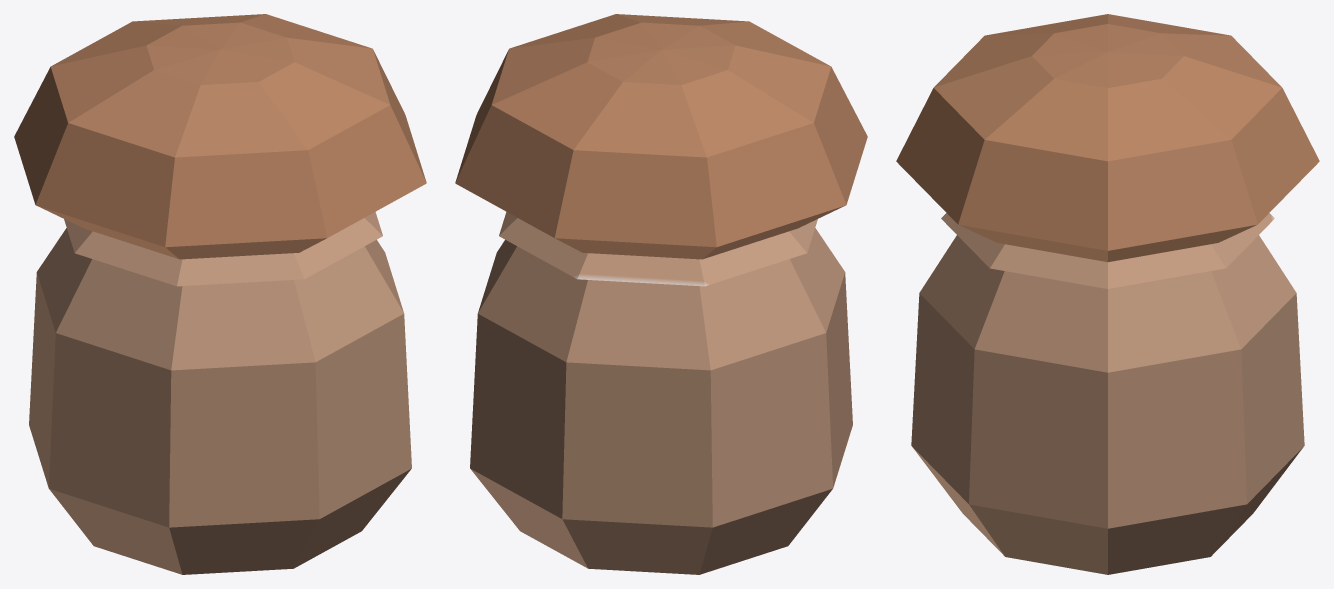
Rendered from Mushroom_05.fbx.
The picture shows the model from 3 angles, left to right: view 1: azimuth 30°, elevation 25°; view 2: azimuth 150°, elevation 25°; view 3: azimuth 270°, elevation 25°; orthographic projection.
Visible parts, largest first — view 1: Mushroom_05; view 2: Mushroom_05; view 3: Mushroom_05.
Part boxes in pixels (x1,y1,x2,y2): Mushroom_05: (14, 14, 426, 574); Mushroom_05: (455, 14, 867, 574); Mushroom_05: (896, 14, 1319, 574).
Size of the model in its own units: 40.34 by 48.47 by 40.34.
